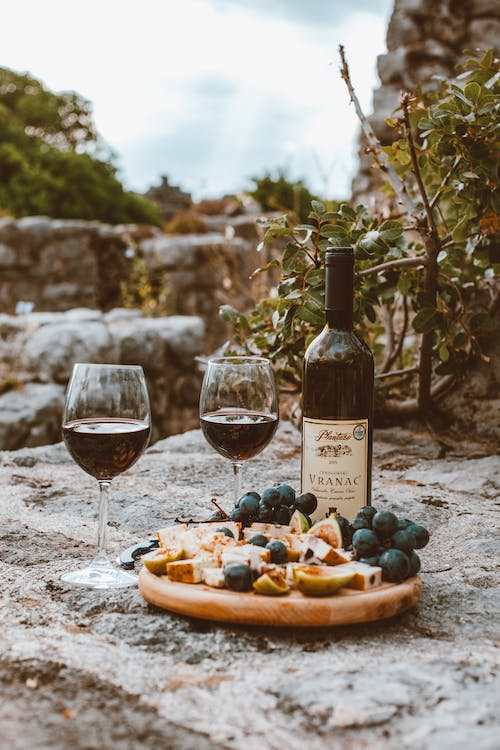alcohol: (59, 360, 151, 589), (300, 246, 374, 526), (199, 355, 281, 507)
